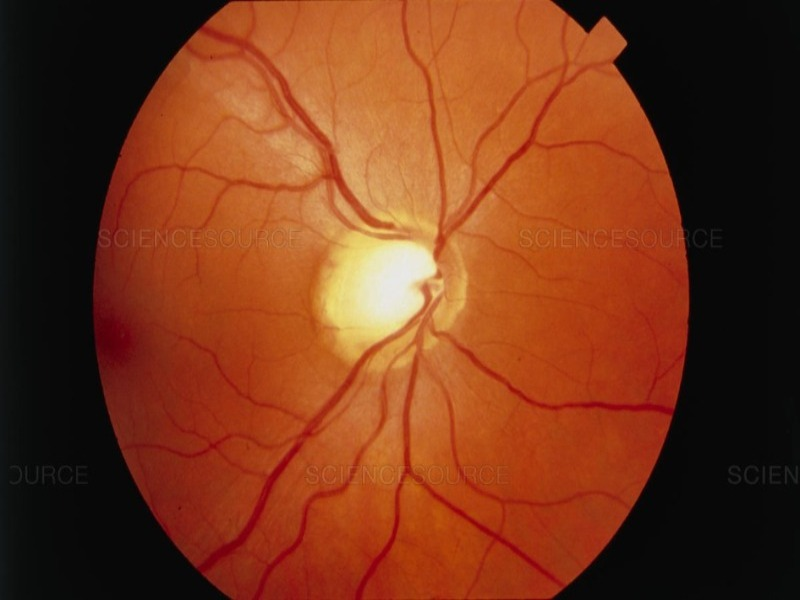Optic Cup: (329, 246, 438, 329)
Optic Disc: (314, 212, 467, 368)
